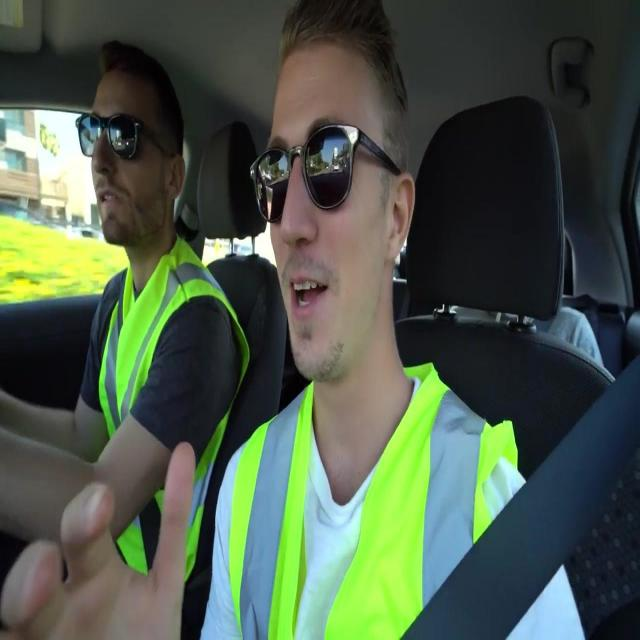Reflective-Jacket: (221, 367, 527, 640), (91, 236, 249, 583)
